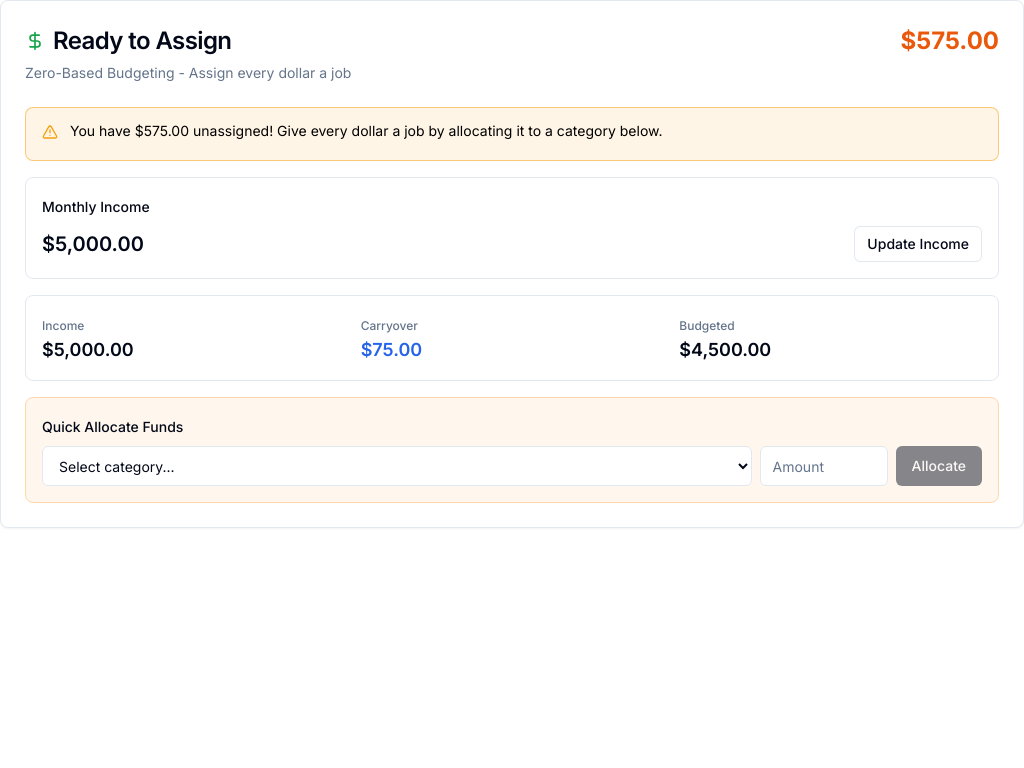
Scenario: ReadyToAssign › Income Editing › should switch to edit mode when Update Income is clicked
Click the button "Update Income". click: (918, 244)
box: [854, 226, 982, 262]
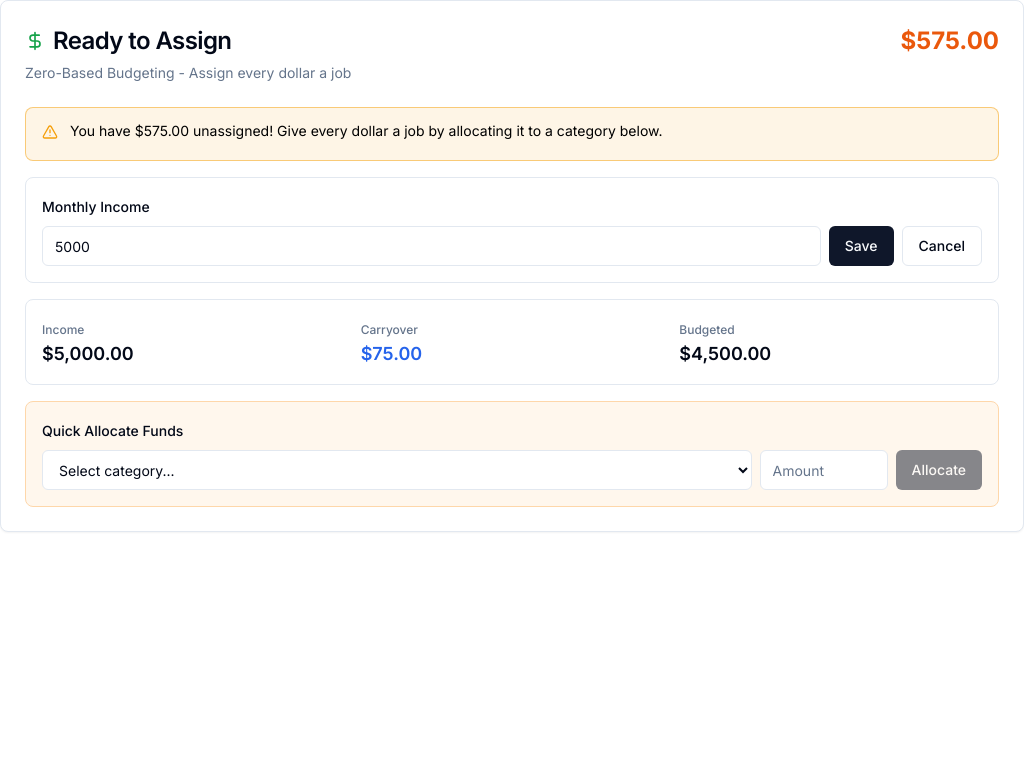
Check: the button "Save" is shown, box [829, 226, 894, 266]
Check: the button "Cancel" is shown, box [902, 226, 982, 266]
